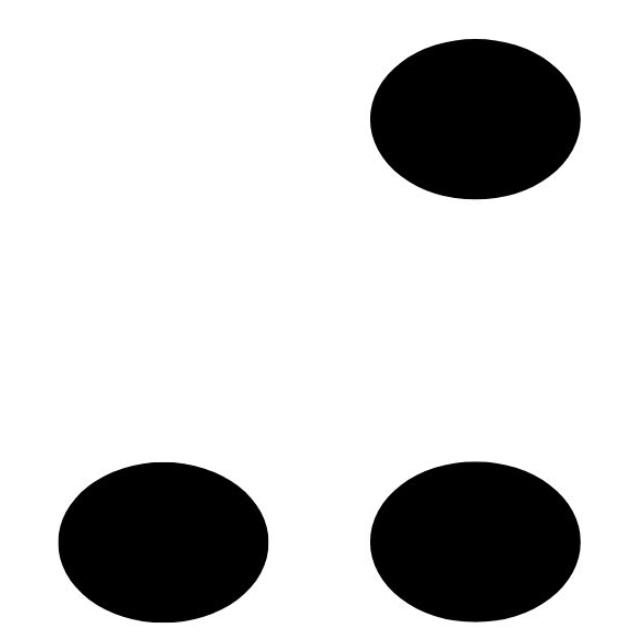ing: (55, 35, 582, 624)
